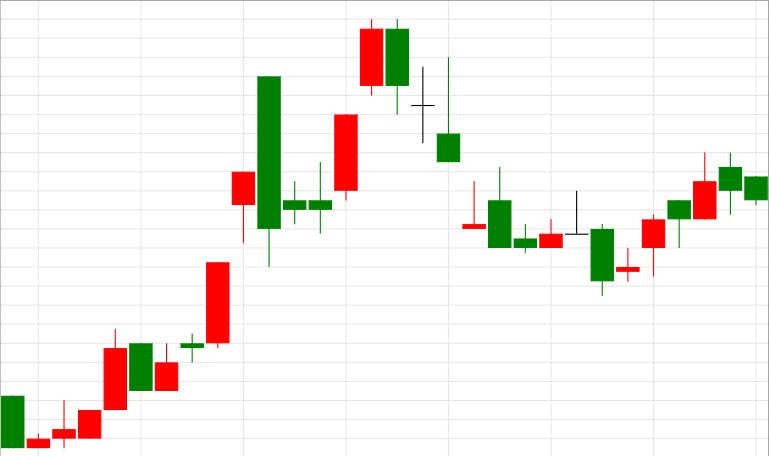bearish_engulfing_fall: (27, 77, 281, 448)
hanging_man_fall: (27, 172, 255, 448)
